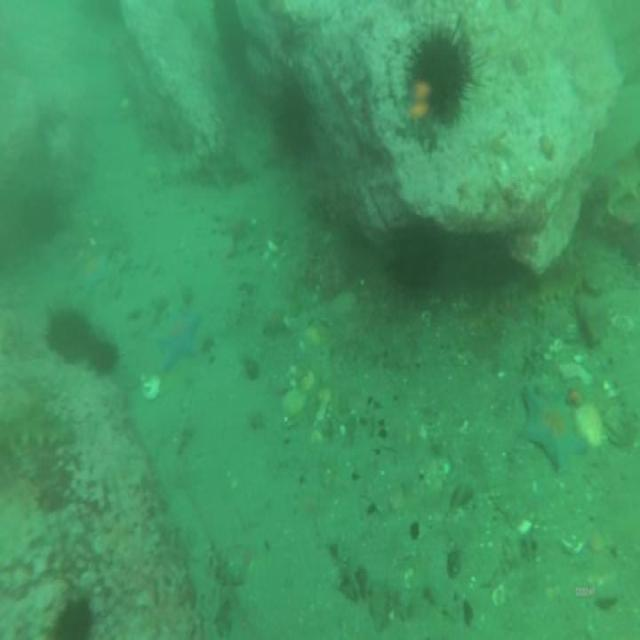echinus: (408, 36, 470, 124), (397, 232, 439, 300), (274, 90, 313, 163), (48, 314, 85, 362), (22, 193, 59, 240), (49, 599, 91, 640), (88, 340, 114, 370)
holothurian: (1, 390, 76, 452)
starfish: (522, 387, 586, 471), (157, 305, 201, 367), (78, 253, 110, 291)
